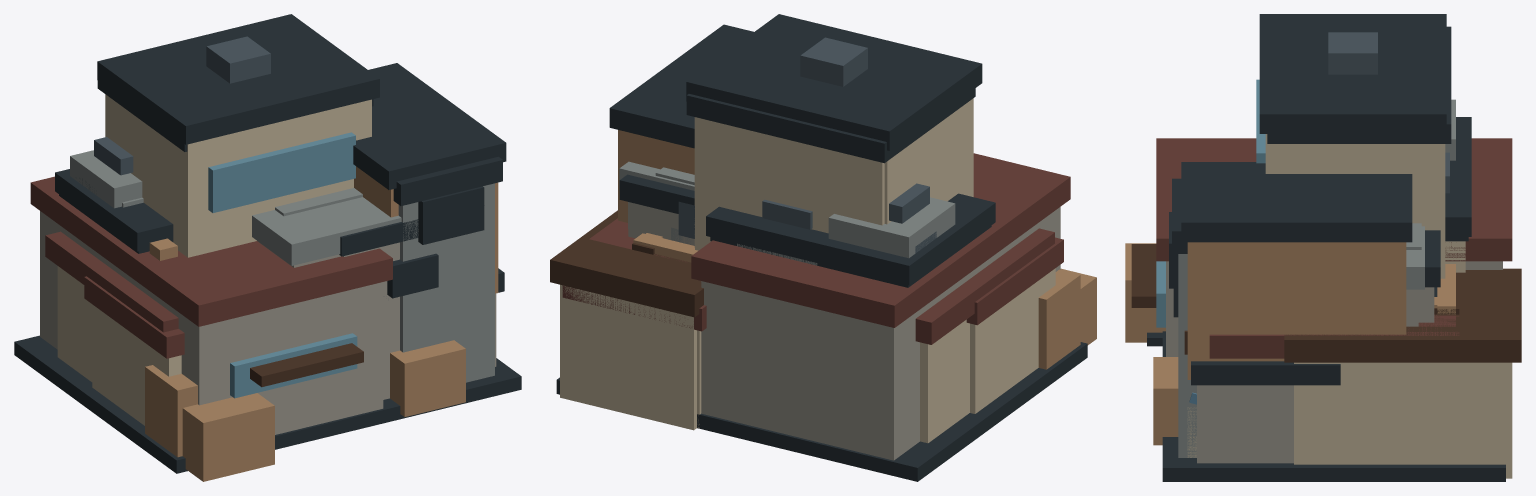
Rendered from facilities.dfd7f2346605.glb.
The picture shows the model from 3 angles, left to right: view 1: azimuth 30°, elevation 25°; view 2: azimuth 150°, elevation 25°; view 3: azimuth 270°, elevation 25°; orthographic projection. The views are drawn at different scales.
Parts seen in each view (by area): view 1: headquarters__near, facility-large__near, chip-fabrication__near, power-generation__near, headquarters-medium__near, gas-generation__near, solar-field__near, facility-medium__near, headquarters__far; view 2: facility-large__near, headquarters__near, headquarters__far, chip-fabrication__near, headquarters-medium__near, gas-generation__near, power-generation__near, solar-field__near, construction-shell__near, network-operations__near, headquarters-medium__far; view 3: headquarters__near, facility-large__near, research-lab__near, solar-field__near, headquarters-medium__near, headquarters__far, facility-medium__near, chip-fabrication__near, power-generation__near, construction-shell__near, facility-small__near.
Part boxes in pixels (x1,y1,x2,y2): headquarters__near: (97, 14, 506, 387); facility-large__near: (30, 156, 502, 481); chip-fabrication__near: (45, 188, 362, 457); power-generation__near: (70, 137, 401, 267); headquarters-medium__near: (55, 169, 438, 399); gas-generation__near: (84, 238, 184, 425); solar-field__near: (14, 335, 521, 473); facility-medium__near: (390, 340, 465, 416); headquarters__far: (97, 80, 373, 151); facility-large__near: (550, 153, 1096, 460); headquarters__near: (609, 14, 982, 247); headquarters__far: (686, 88, 975, 250); chip-fabrication__near: (589, 167, 1080, 443); headquarters-medium__near: (619, 174, 995, 285); gas-generation__near: (966, 237, 1063, 413); power-generation__near: (562, 161, 955, 427); solar-field__near: (556, 342, 1087, 481); construction-shell__near: (632, 233, 697, 262); network-operations__near: (671, 201, 694, 244); headquarters-medium__far: (710, 225, 991, 287); headquarters__near: (1131, 14, 1446, 379); facility-large__near: (1125, 138, 1521, 478); research-lab__near: (1191, 287, 1437, 463); solar-field__near: (1162, 331, 1505, 481); headquarters-medium__near: (1173, 117, 1471, 322); headquarters__far: (1267, 26, 1451, 278); facility-medium__near: (1153, 272, 1459, 445); chip-fabrication__near: (1209, 223, 1459, 358); power-generation__near: (1406, 99, 1455, 326); construction-shell__near: (1434, 264, 1459, 314); facility-small__near: (1147, 314, 1455, 346).
Size of the model in its own units: 1.35 by 1.2 by 1.27.
